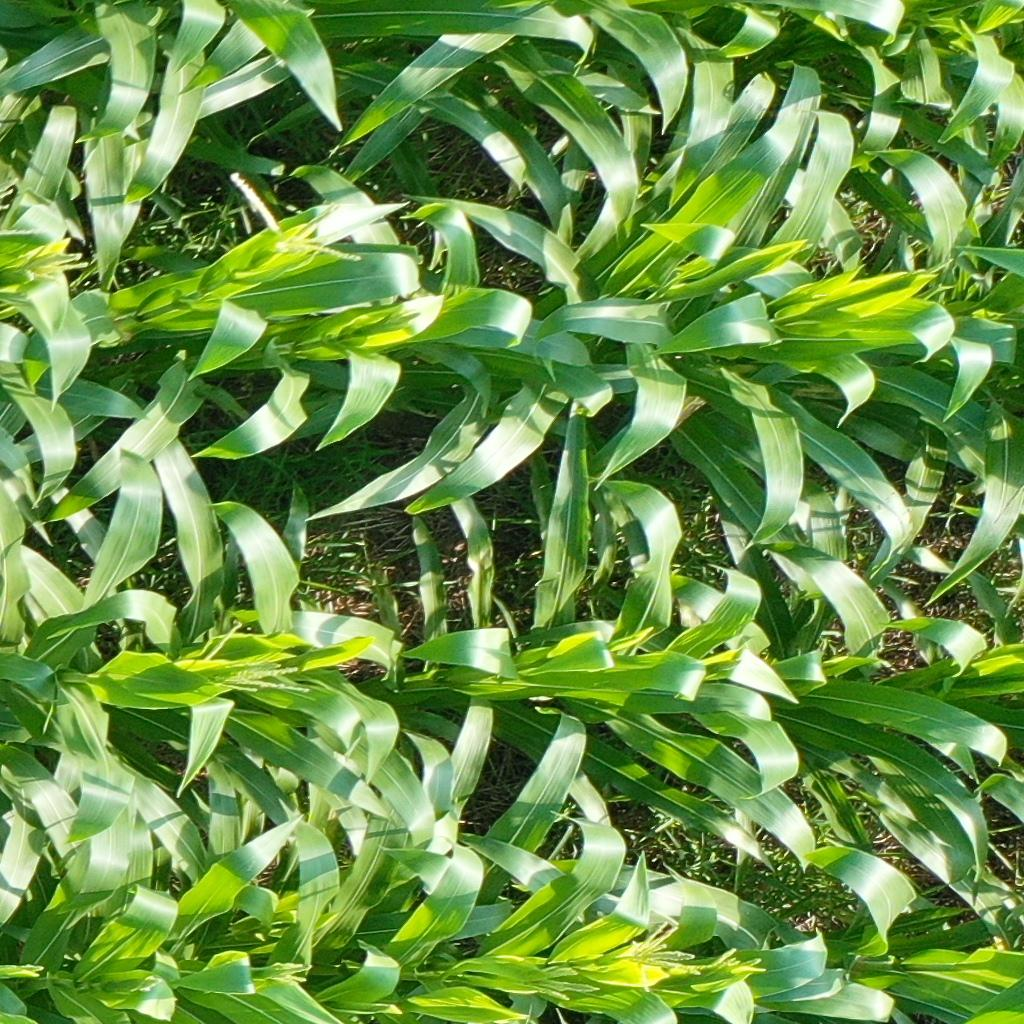Tassel: (226, 174, 369, 269), (191, 623, 309, 702), (626, 918, 701, 993), (522, 956, 598, 1004), (704, 940, 769, 985), (1, 173, 40, 245), (19, 249, 92, 287), (264, 955, 319, 985), (383, 304, 423, 332), (13, 962, 44, 977), (137, 973, 160, 993)
